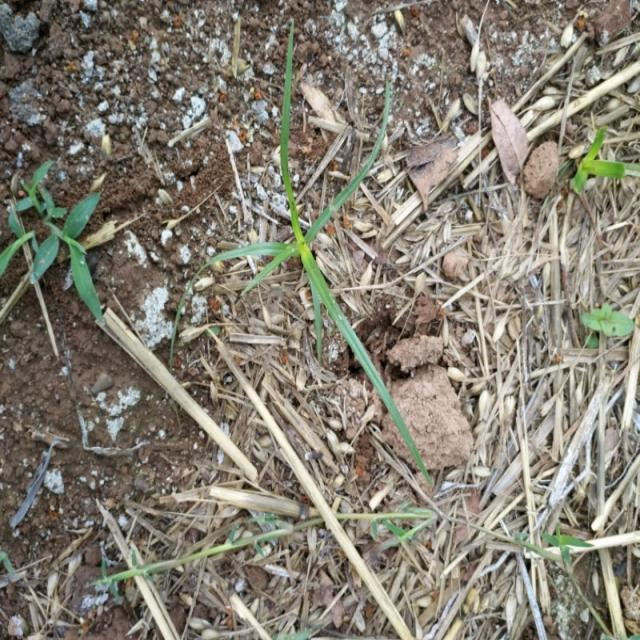sedge: (170, 50, 428, 449)
